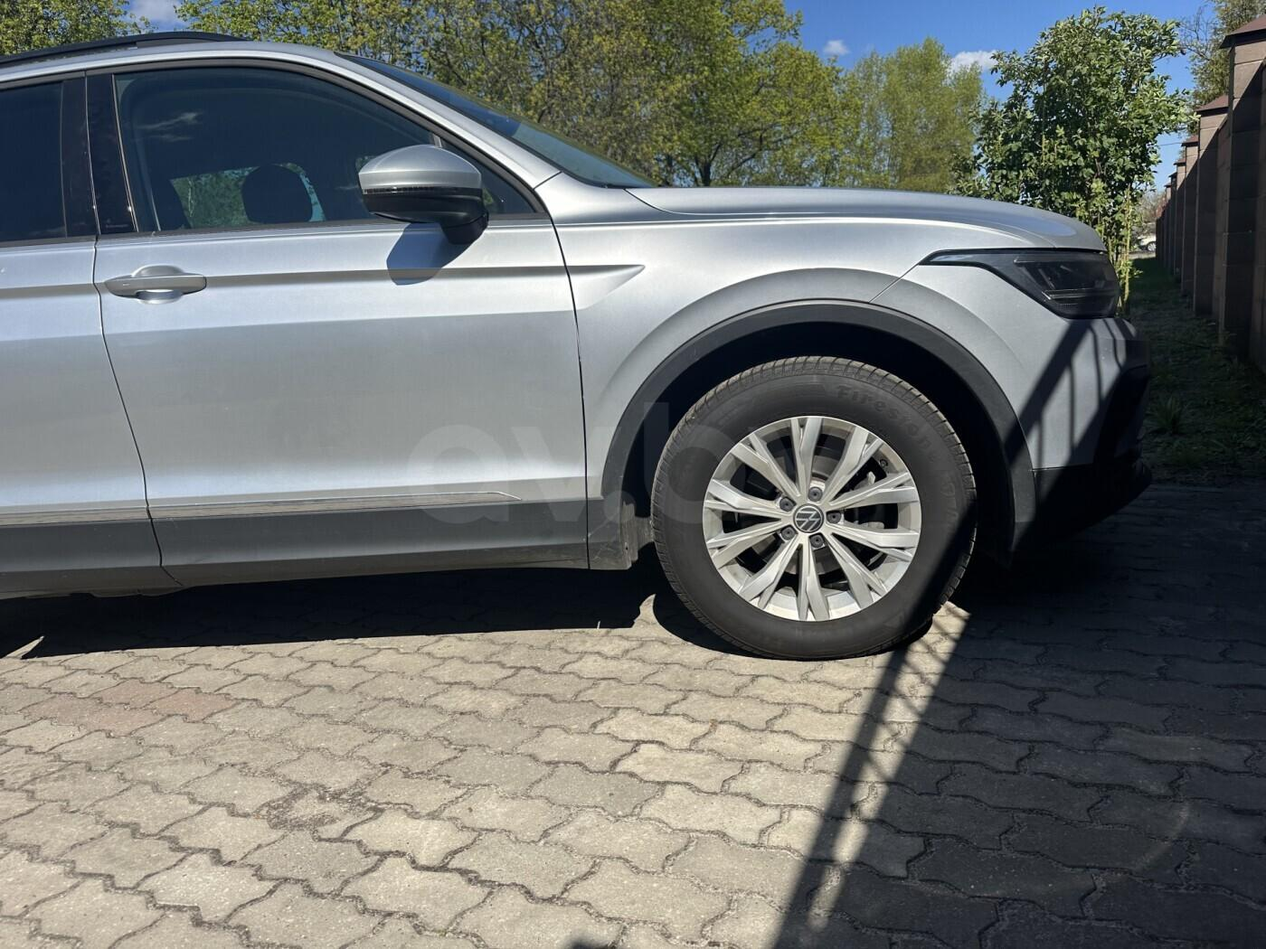Tiguan_2020-2024: (1, 36, 1142, 665)
